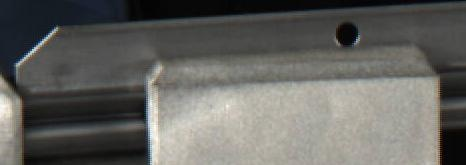cut: (16, 21, 131, 157)
holes: (334, 19, 361, 47)
